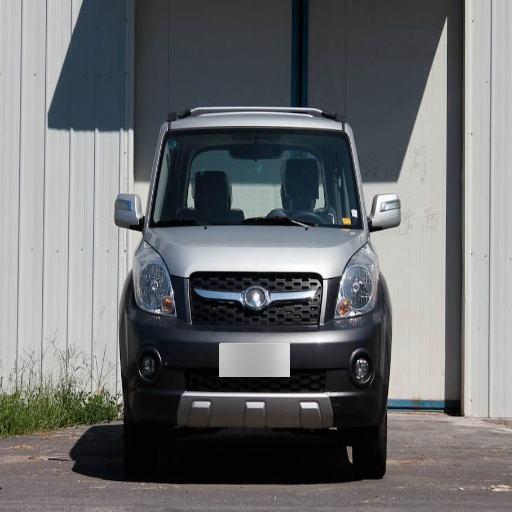front_bumper: (123, 274, 388, 433)
front_right_light: (129, 248, 176, 314)
hood: (147, 225, 367, 277)
